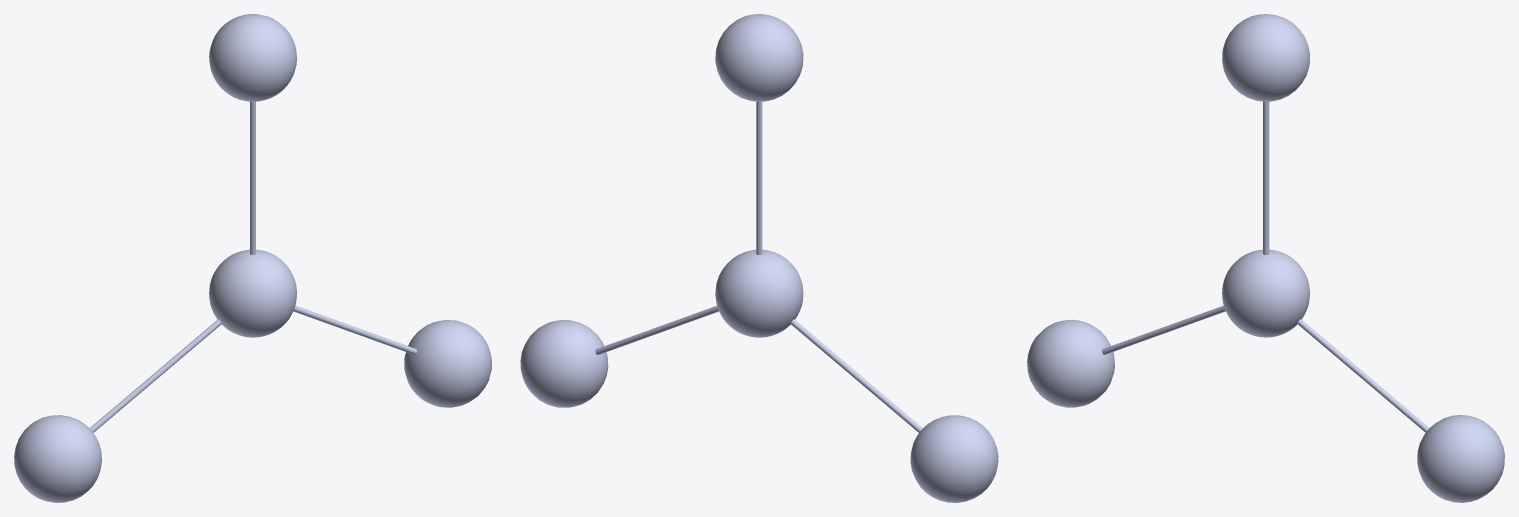
The model's file is TrigonalPlanar.obj.
3 renders of one model, left to right at view 1: azimuth 30°, elevation 25°; view 2: azimuth 150°, elevation 25°; view 3: azimuth 330°, elevation 25°, orthographic.
Visible parts, largest first — view 1: DirectConnectNode_36_DC_Shell, DirectConnectNode_10_DC_Shell, DirectConnectNode_16_DC_Shell, DirectConnectNode_30_DC_Shell, DirectConnectNode_23_DC_Shell, DirectConnectNode_3_DC_Shell, DirectConnectNode_43_DC_Shell; view 2: DirectConnectNode_36_DC_Shell, DirectConnectNode_16_DC_Shell, DirectConnectNode_10_DC_Shell, DirectConnectNode_30_DC_Shell, DirectConnectNode_23_DC_Shell, DirectConnectNode_3_DC_Shell, DirectConnectNode_43_DC_Shell; view 3: DirectConnectNode_30_DC_Shell, DirectConnectNode_10_DC_Shell, DirectConnectNode_16_DC_Shell, DirectConnectNode_36_DC_Shell, DirectConnectNode_43_DC_Shell, DirectConnectNode_3_DC_Shell, DirectConnectNode_23_DC_Shell.
Boxes of the visible parts, x1,y1,x2,y2 form: DirectConnectNode_36_DC_Shell: (14, 415, 101, 502); DirectConnectNode_10_DC_Shell: (209, 14, 296, 101); DirectConnectNode_16_DC_Shell: (209, 249, 296, 337); DirectConnectNode_30_DC_Shell: (404, 320, 491, 407); DirectConnectNode_23_DC_Shell: (89, 319, 221, 432); DirectConnectNode_3_DC_Shell: (250, 101, 255, 254); DirectConnectNode_43_DC_Shell: (293, 305, 416, 354); DirectConnectNode_36_DC_Shell: (910, 415, 998, 502); DirectConnectNode_16_DC_Shell: (715, 249, 803, 337); DirectConnectNode_10_DC_Shell: (715, 14, 803, 101); DirectConnectNode_30_DC_Shell: (520, 320, 608, 407); DirectConnectNode_23_DC_Shell: (790, 319, 922, 432); DirectConnectNode_3_DC_Shell: (756, 101, 762, 254); DirectConnectNode_43_DC_Shell: (595, 306, 718, 354); DirectConnectNode_30_DC_Shell: (1417, 415, 1504, 502); DirectConnectNode_10_DC_Shell: (1222, 14, 1309, 101); DirectConnectNode_16_DC_Shell: (1222, 249, 1309, 337); DirectConnectNode_36_DC_Shell: (1027, 319, 1114, 407); DirectConnectNode_43_DC_Shell: (1297, 319, 1429, 432); DirectConnectNode_3_DC_Shell: (1263, 101, 1269, 254); DirectConnectNode_23_DC_Shell: (1102, 305, 1225, 354).
Size of the model in its own units: 0.3102 by 0.2755 by 0.0508.
